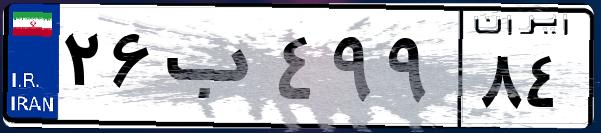2: (57, 26, 110, 100)
4: (270, 28, 330, 110), (525, 38, 570, 115)
6: (110, 28, 158, 98)
8: (475, 38, 525, 113)
9: (385, 28, 445, 110), (330, 28, 385, 110)
ب: (158, 20, 270, 120)
